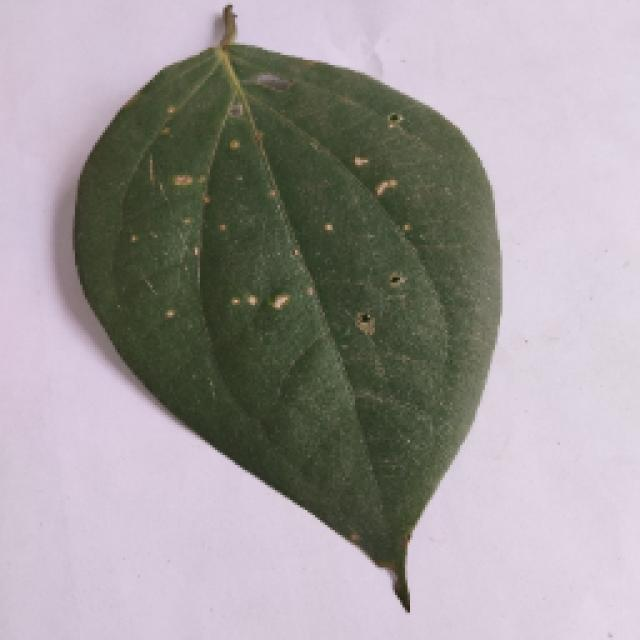pollu-disease: (72, 13, 498, 605)
